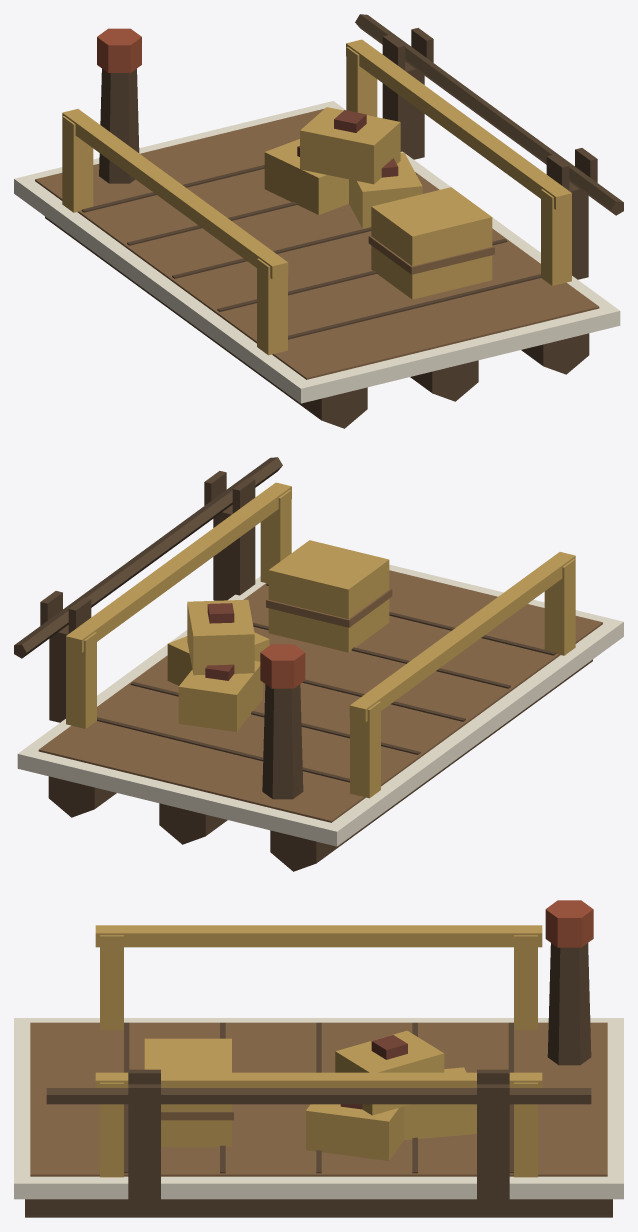
Rendered from ferry-raft.glb.
The picture shows the model from 3 angles, top to bottom: view 1: azimuth 30°, elevation 25°; view 2: azimuth 150°, elevation 25°; view 3: azimuth 270°, elevation 25°; orthographic projection. The views are drawn at different scales.
Parts seen in each view (by area): view 1: ferry-raft; view 2: ferry-raft; view 3: ferry-raft.
Boxes of the visible parts, x1,y1,x2,y2 form: ferry-raft: (14,14,623,428); ferry-raft: (14,457,623,871); ferry-raft: (14,900,623,1217).
Size of the model in its own units: 3.95 by 2.12 by 5.6.
Materials: 1 (1 with a texture image).
